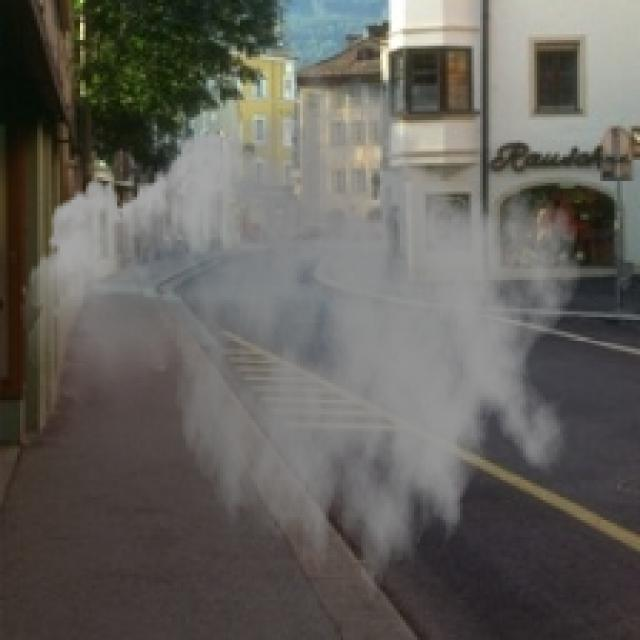smoke: (20, 60, 583, 626)
